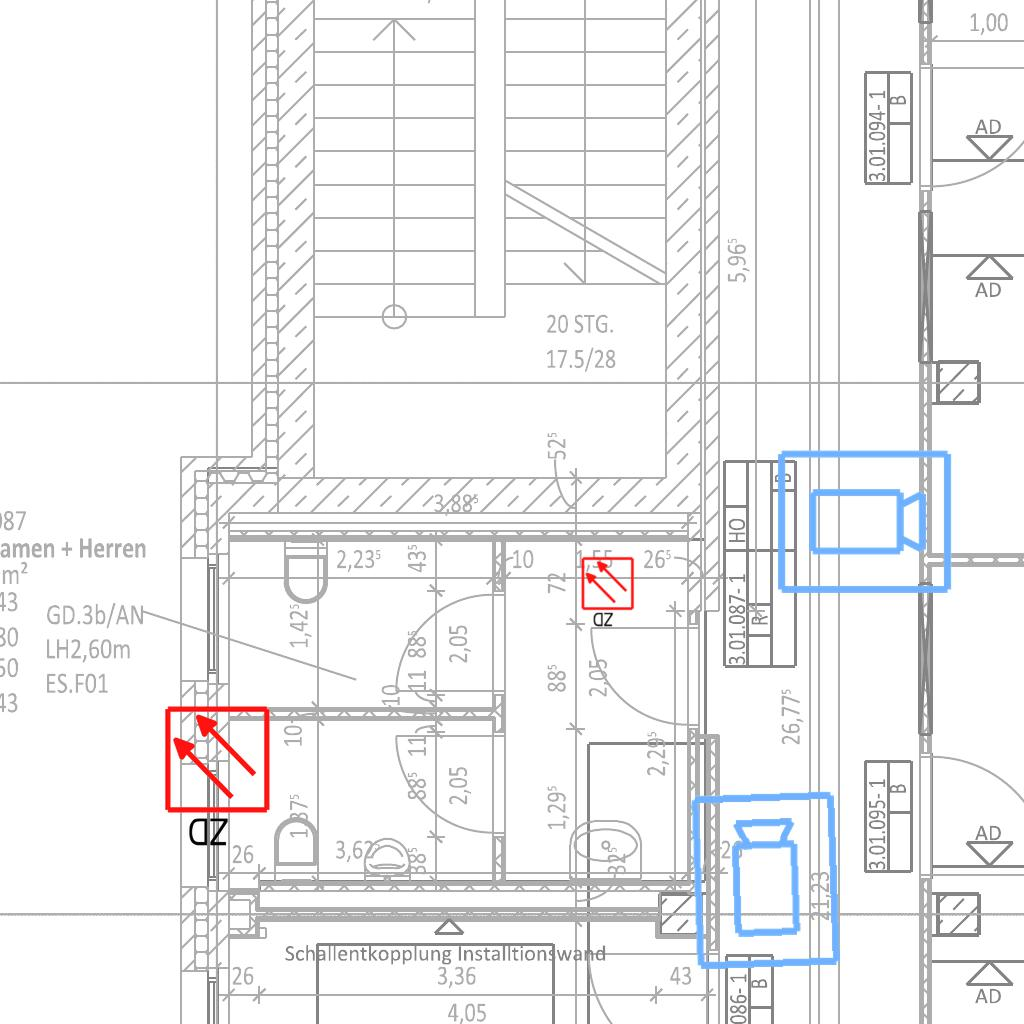KFO_Kamera_mit_Festobjektiv: (686, 787, 848, 975), (773, 446, 955, 600)
ZD_Melder_in_Zwischendecke_mit_Revisionsoeffnung_mind_40_x_40_cm: (162, 704, 276, 853), (580, 556, 637, 630)
